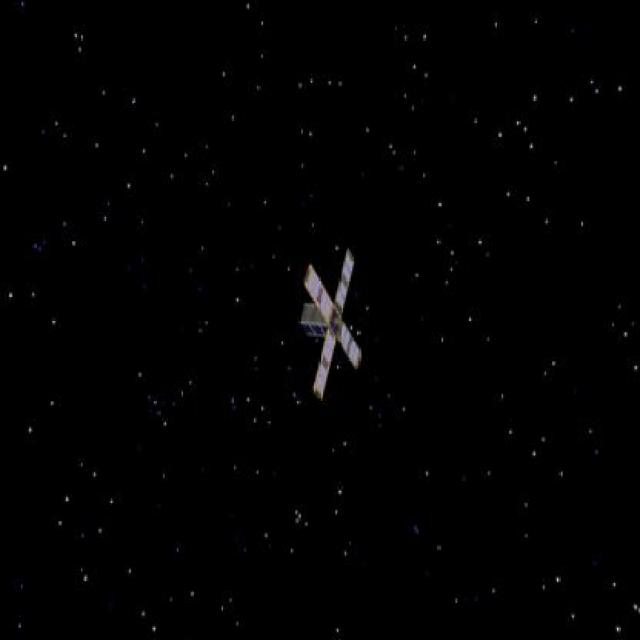medium_debris: (275, 254, 387, 404)
